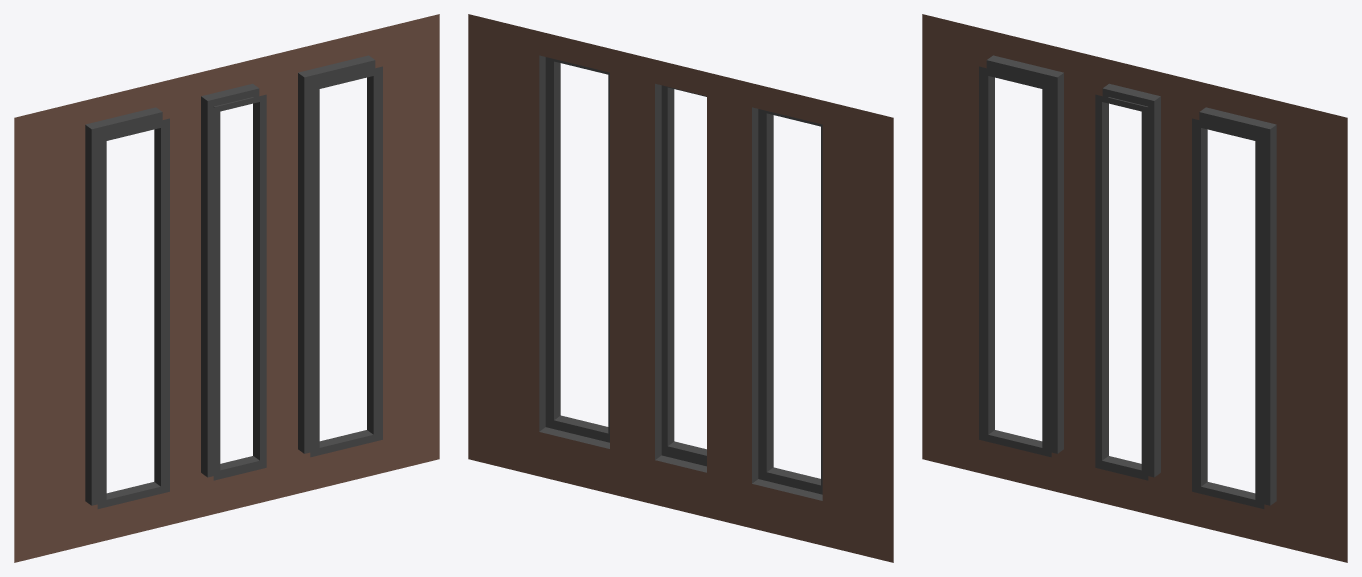
File: HoutenMuurRaam01_LOD0.fbx
3 renders of one model, left to right at view 1: azimuth 30°, elevation 25°; view 2: azimuth 150°, elevation 25°; view 3: azimuth 330°, elevation 25°, orthographic.
Visible parts, largest first — view 1: HoutenMuurRaam01_LOD0; view 2: HoutenMuurRaam01_LOD0; view 3: HoutenMuurRaam01_LOD0.
Boxes of the visible parts, x1,y1,x2,y2 form: HoutenMuurRaam01_LOD0: (14,14,439,562); HoutenMuurRaam01_LOD0: (468,14,893,562); HoutenMuurRaam01_LOD0: (922,14,1347,562).
Bounding box in the file's own units: 4 × 4 × 0.2153.
